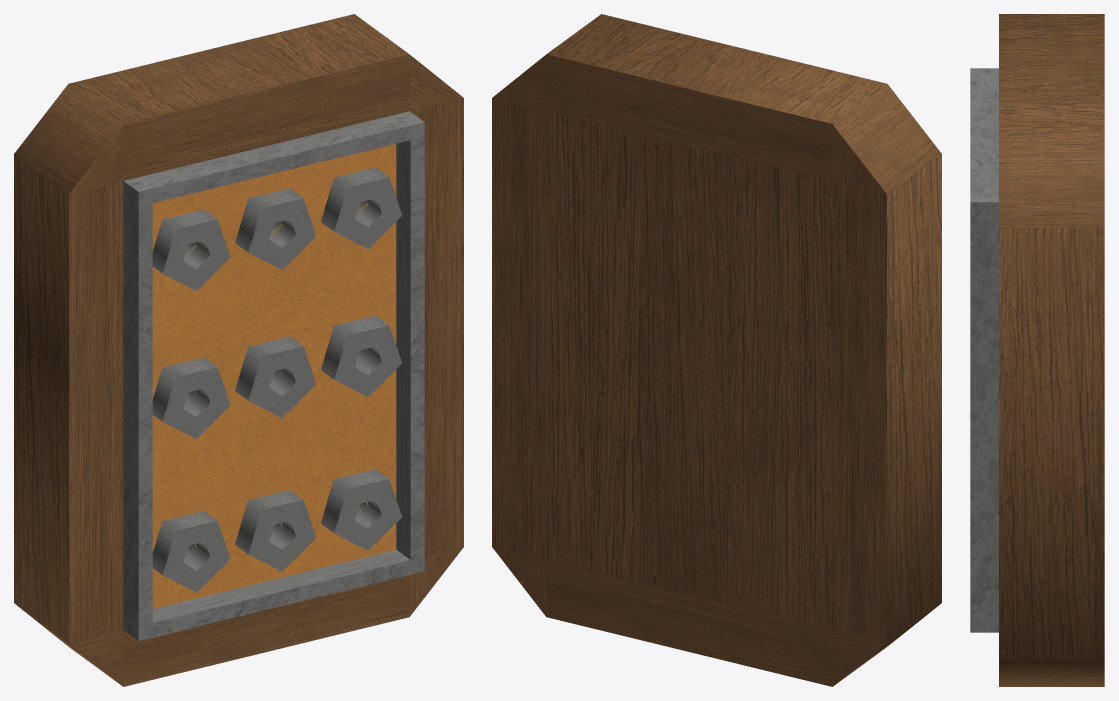
The model's file is walltrap_1_arrowshooter.fbx.
The picture shows the model from 3 angles, left to right: view 1: azimuth 30°, elevation 25°; view 2: azimuth 150°, elevation 25°; view 3: azimuth 270°, elevation 25°; orthographic projection. The views are drawn at different scales.
Parts seen in each view (by area): view 1: Tube; view 2: Tube; view 3: Tube.
Part boxes in pixels (bbox=[...]): Tube: bbox=[14, 14, 463, 686]; Tube: bbox=[492, 14, 941, 686]; Tube: bbox=[970, 14, 1104, 686].
Size of the model in its own units: 143 by 195 by 43.99.
Materials: 1 (1 with a texture image).
